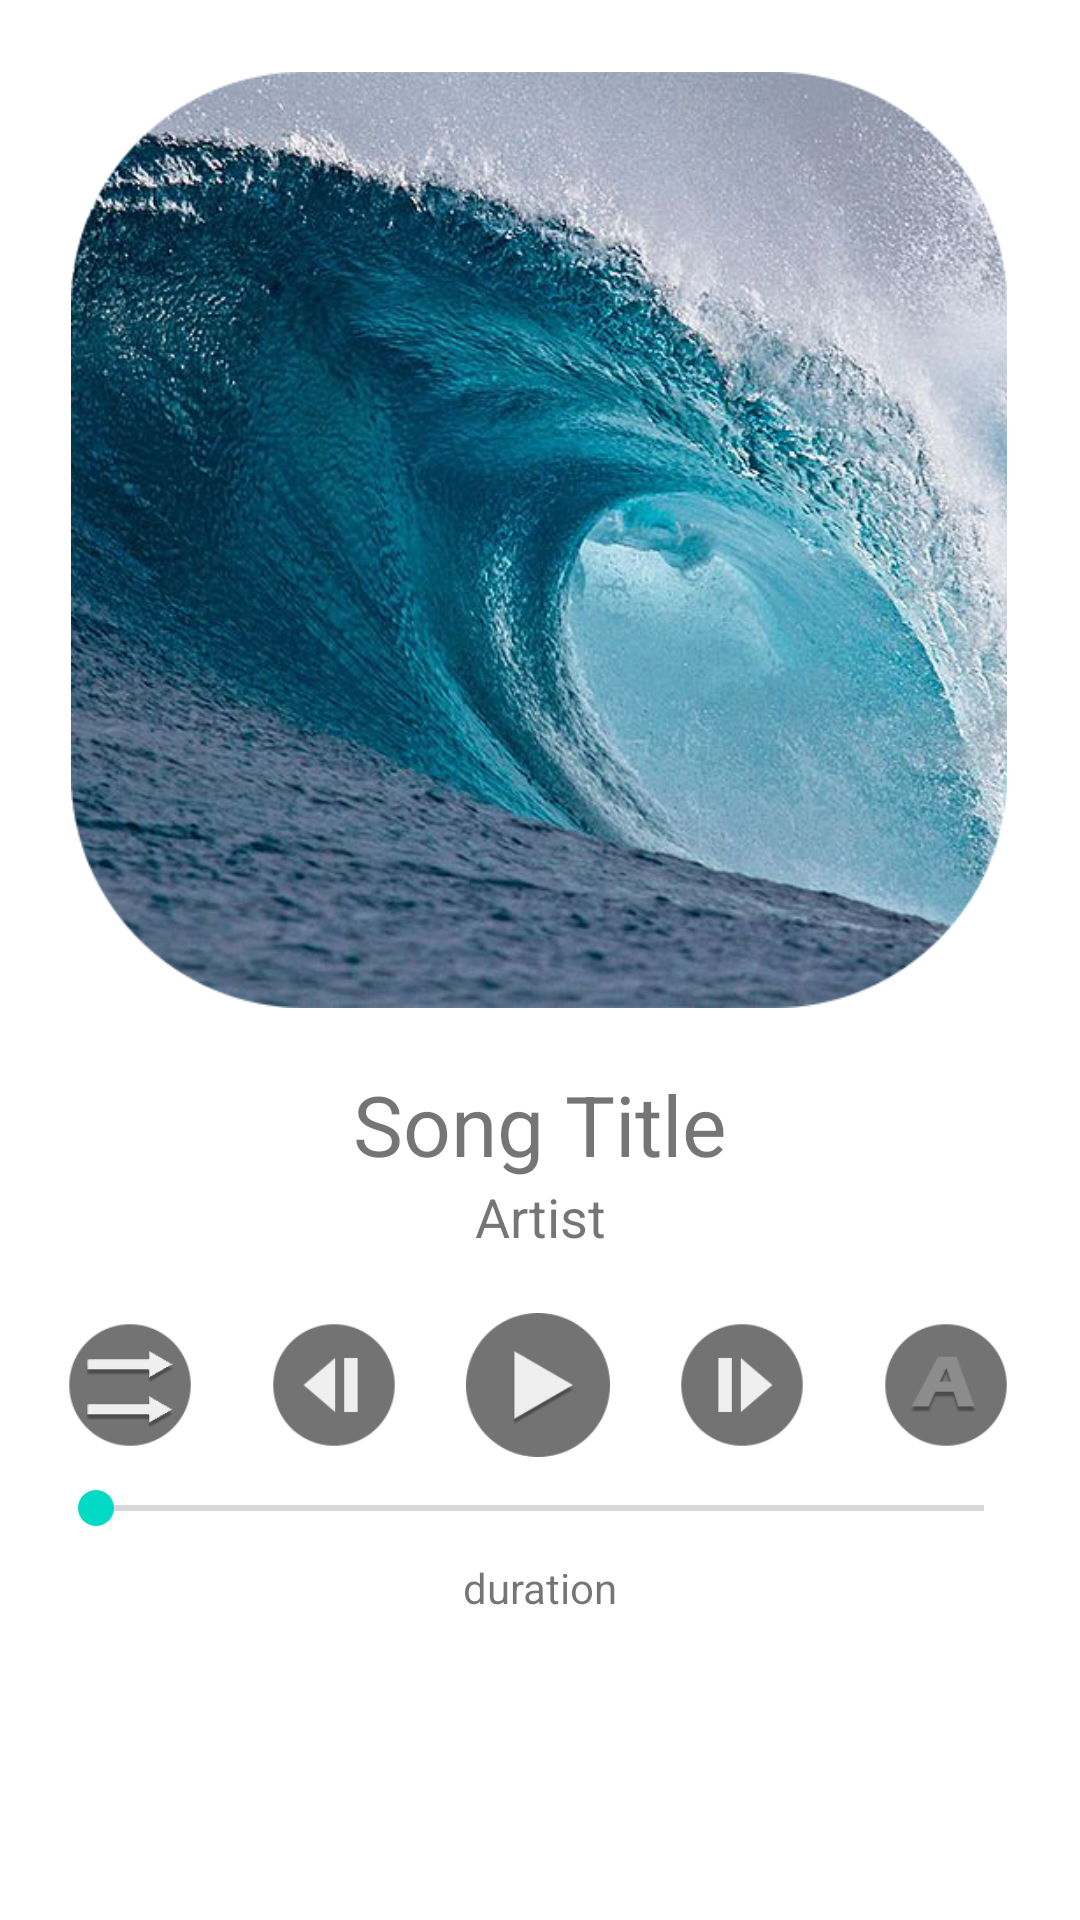

Screen size 1080×1920. Icon name, then its center in pixels as (x=x, y=y):
auto off: (x=946, y=1385)
next: (x=742, y=1385)
ordered: (x=130, y=1385)
play: (x=538, y=1385)
previous: (x=334, y=1385)
